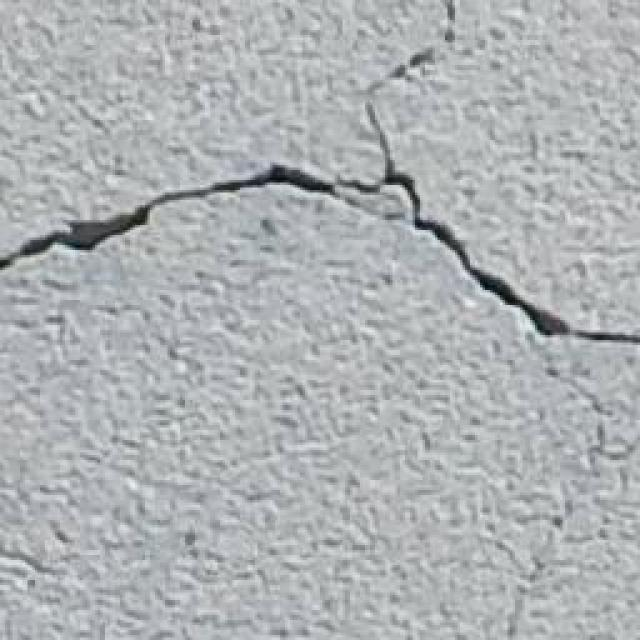concrete-crack: (0, 0, 637, 343)
